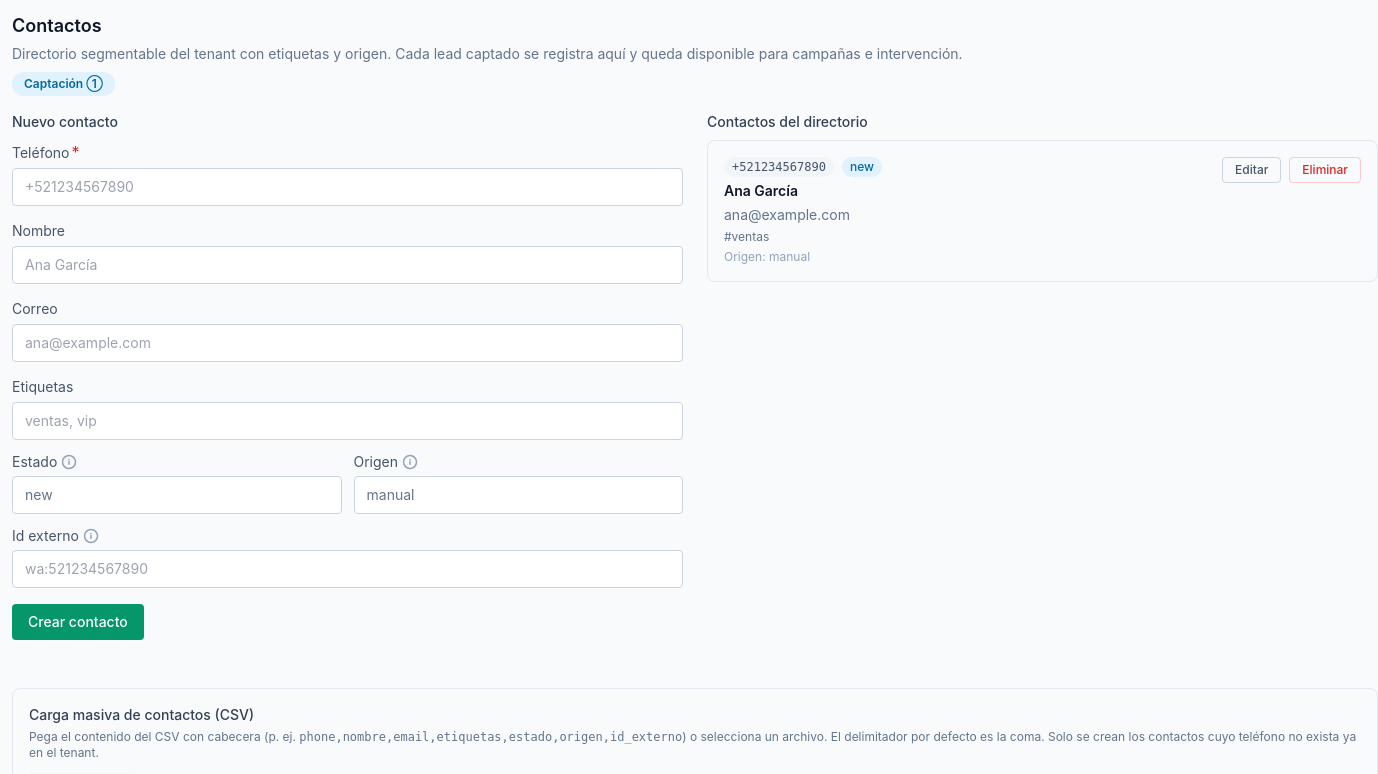
Test: ContactsSection › elimina un contacto y vuelve al estado vacío
Expected: the heading "Ana García" is shown, [724,182,798,199]
Click the button "Eliminar": (1325,170) [1289,157,1361,183]
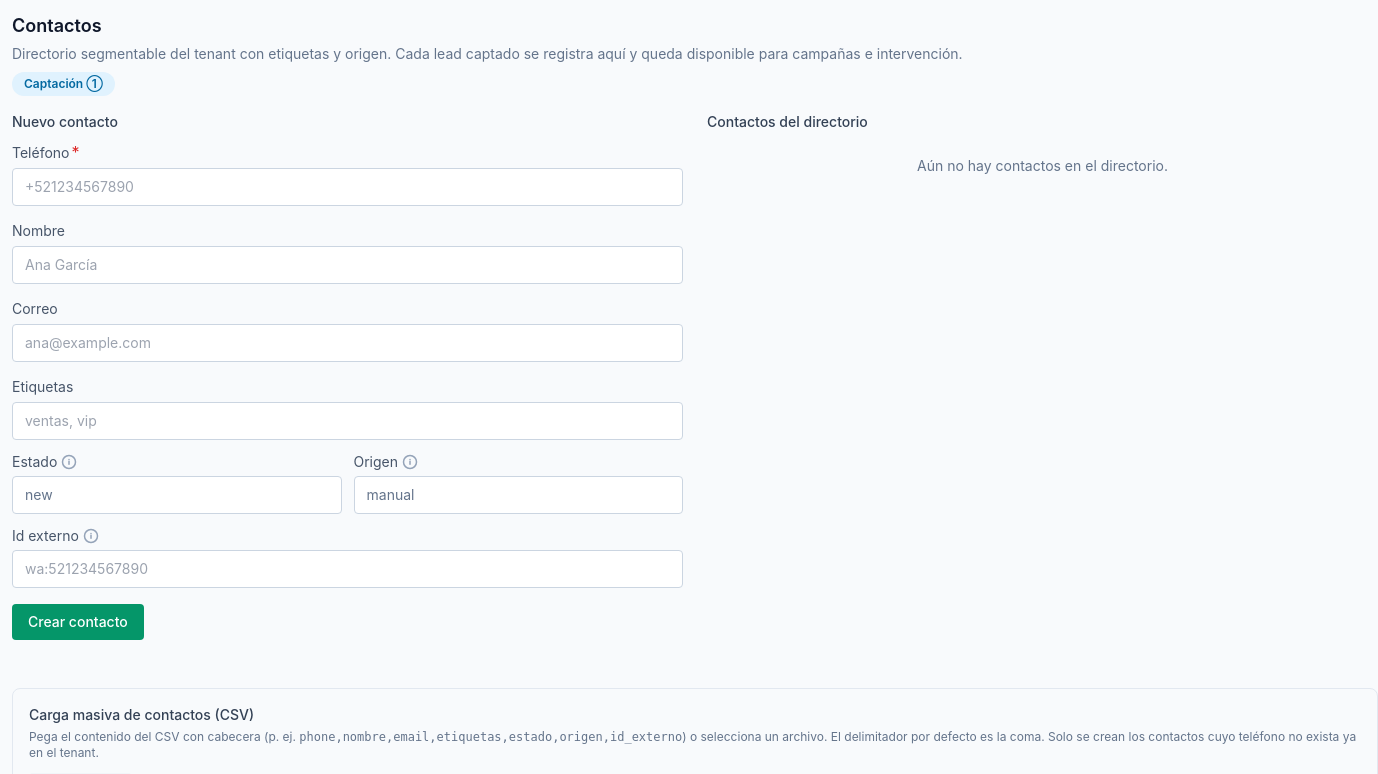
Expected: the text "Aún no hay contactos en el directorio." is shown, [917,157,1168,174]
